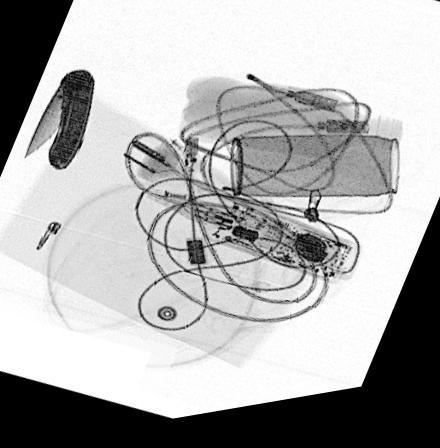Knife: (22, 71, 98, 177)
